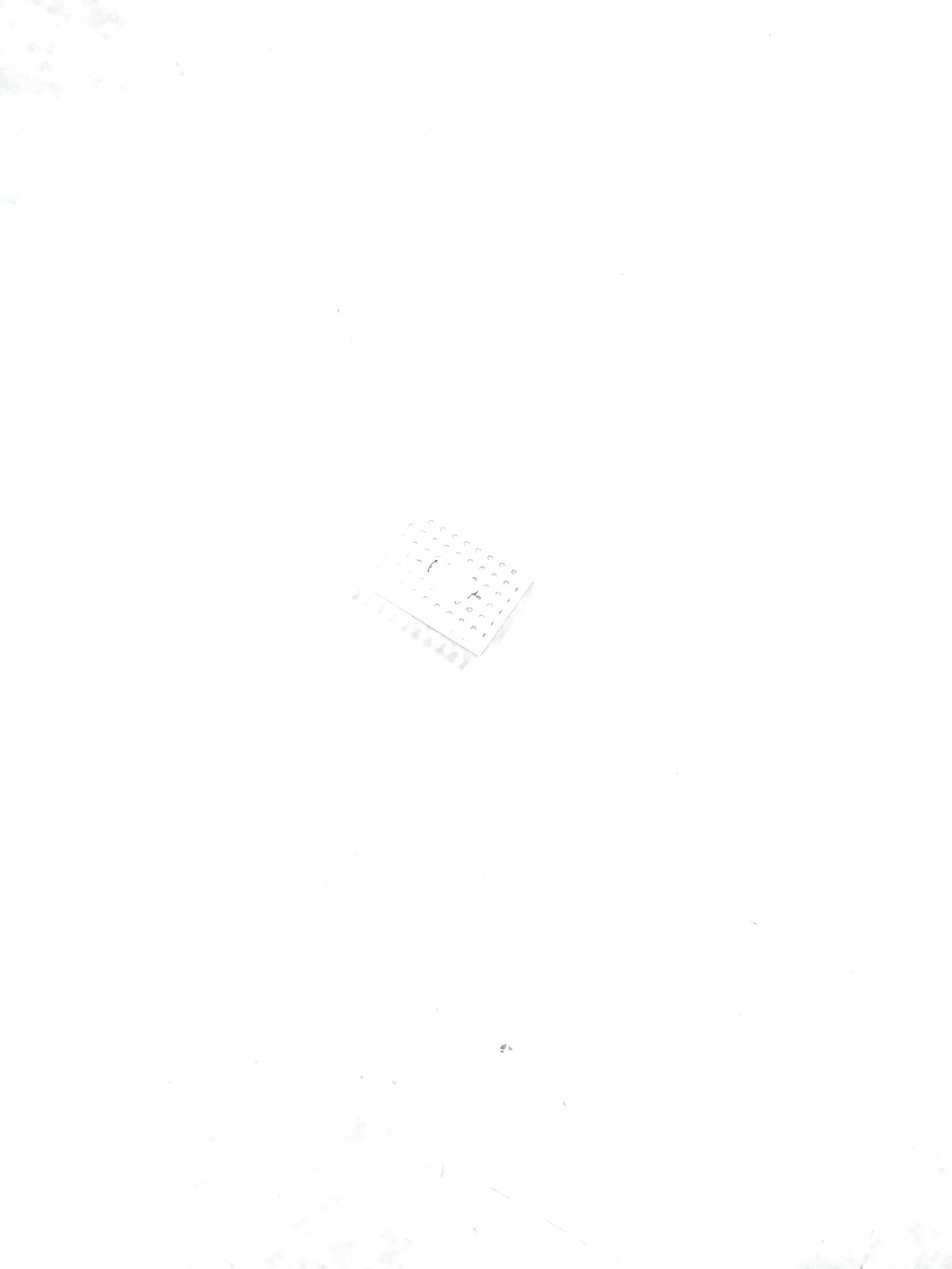basket: (365, 505, 539, 668)
